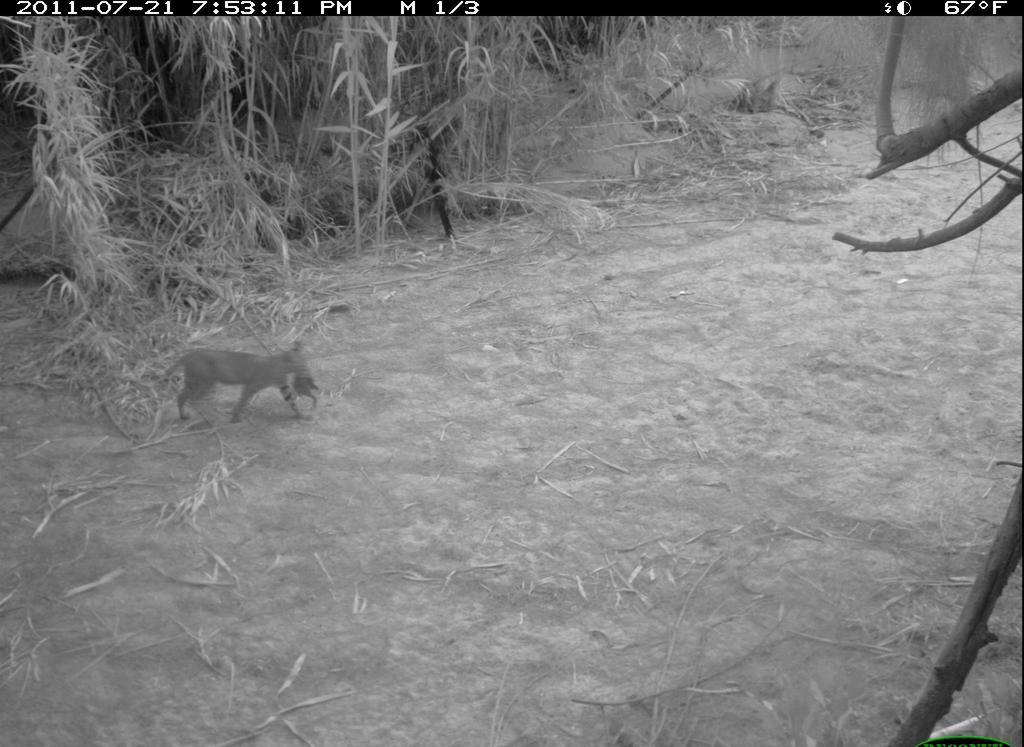rabbit: (290, 363, 326, 414)
